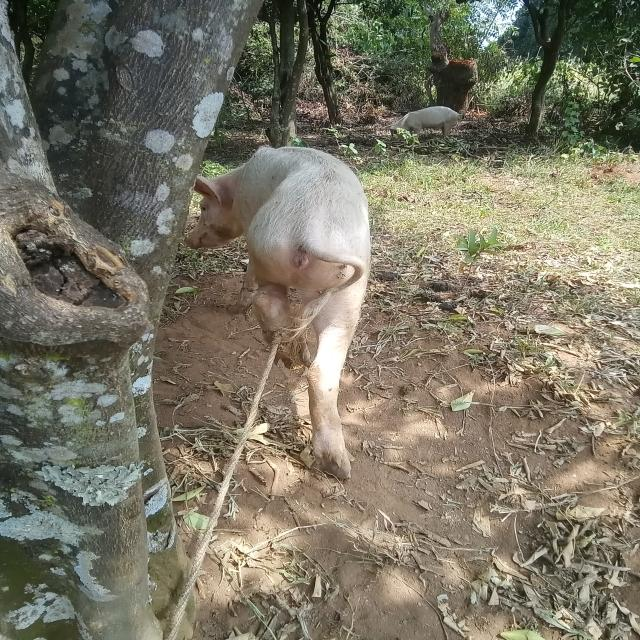pig: (144, 112, 490, 536)
